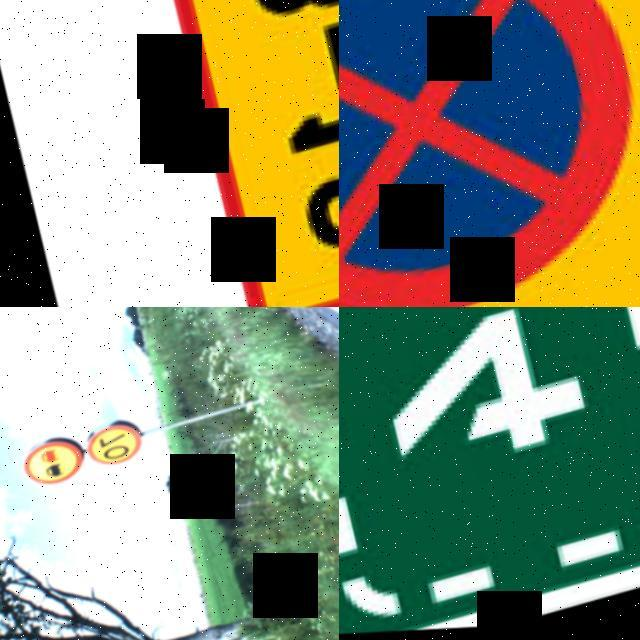120: (98, 0, 339, 307)
33: (15, 433, 88, 495)
55: (76, 414, 150, 478)
Restriction zone: (339, 0, 640, 307)
Road number sign: (339, 307, 640, 640)
